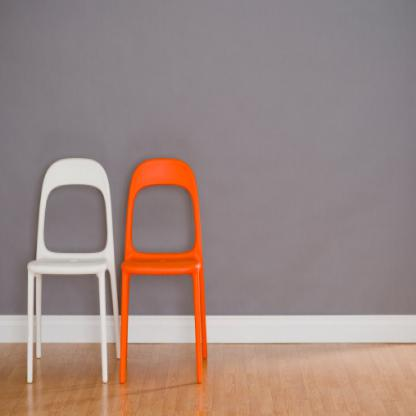chair: (19, 154, 120, 380), (121, 152, 212, 387)
